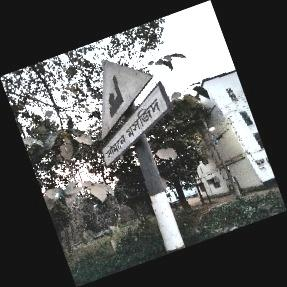Mosque in front: (99, 57, 173, 167)
